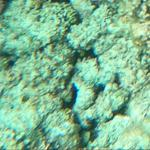dead: (5, 5, 140, 145)
